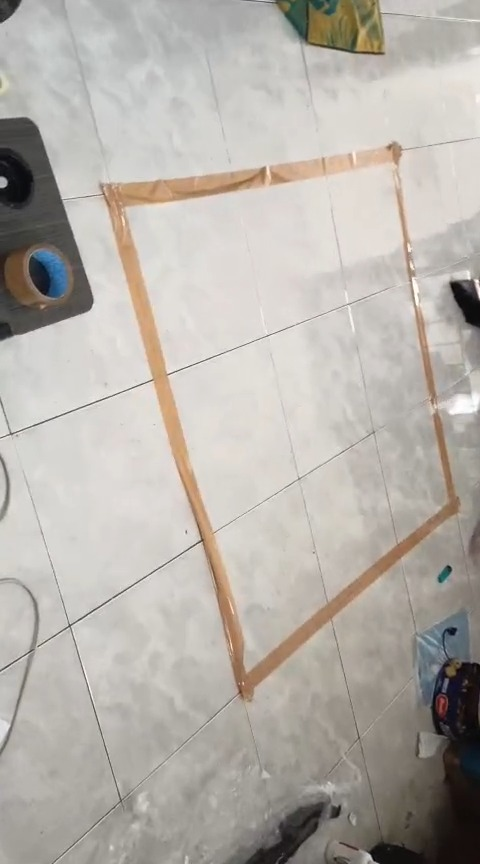floor marking: (103, 142, 458, 697)
